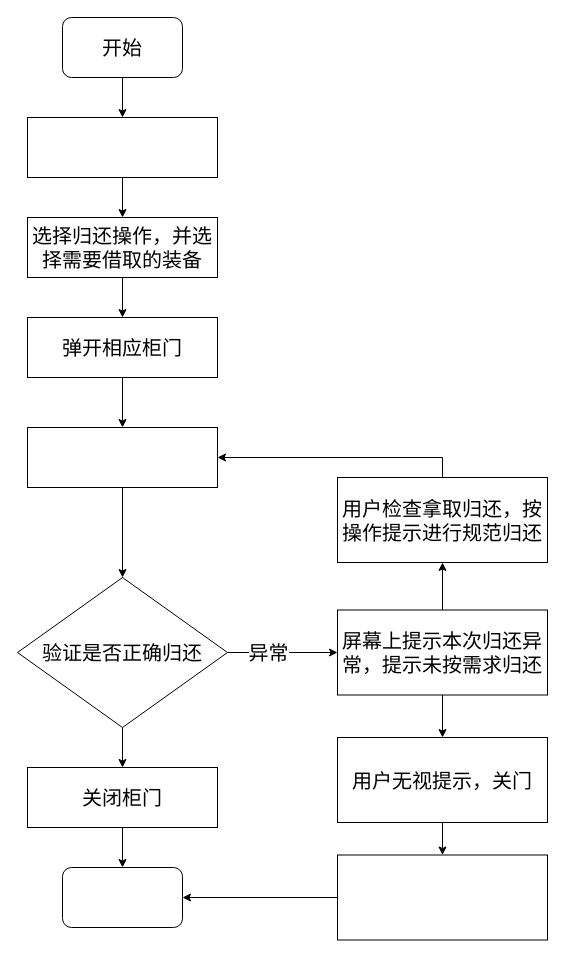
This 565x958 diagram has some shape labels left out. The centre of each missing label's shape, as x and y in pixels:
"密码/指纹/人脸登录验证身份" goes at point 122,147.
"归还本次需要的装备" goes at point 122,457.
"结束" goes at point 122,897.
"记录本次异常" goes at point 442,897.
